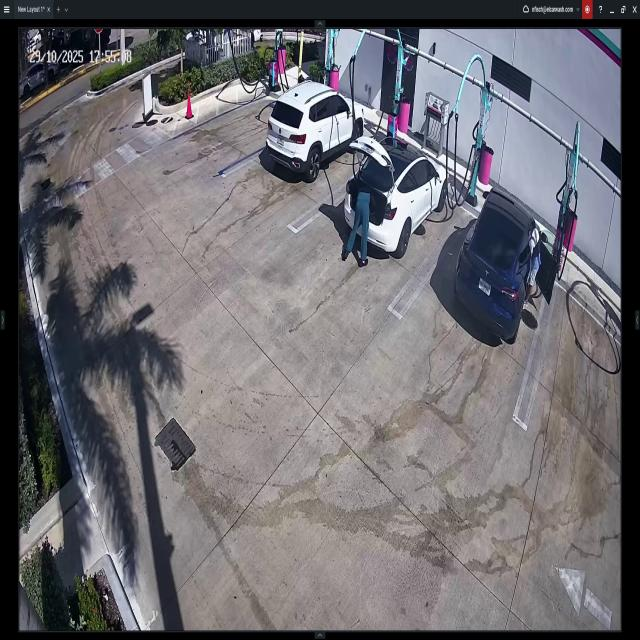Car: (337, 120, 448, 265), (458, 190, 554, 342), (266, 86, 364, 186)
